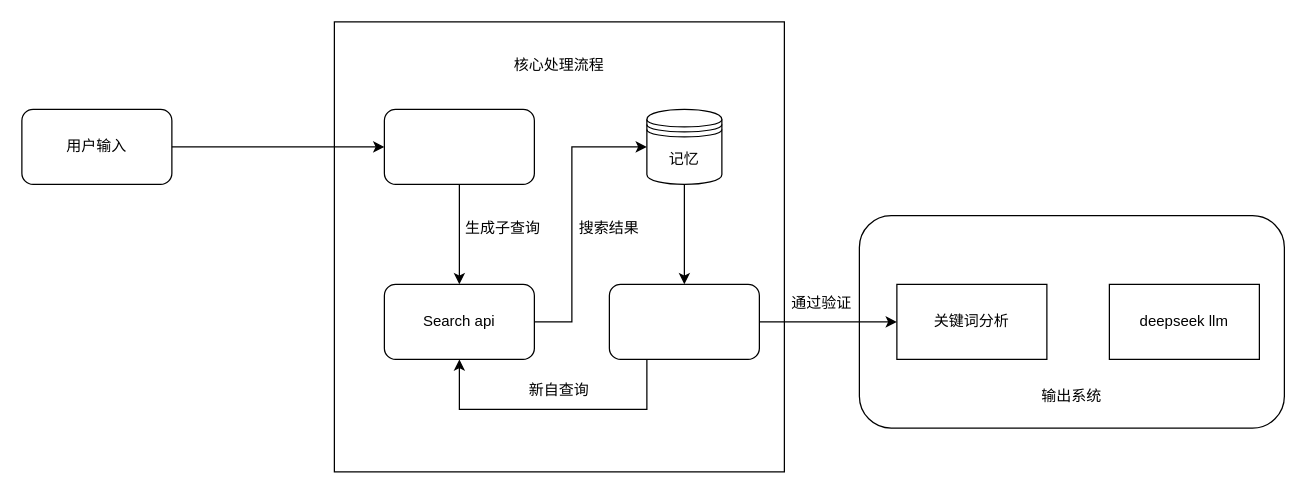
Image size: 1306x494. Some labels were removed from this diagram. Here are the shapes that lost their labels. From the top down, the centre of each, then its label:
At point 458,146: "llm规划器".
At point 683,321: "llm反思器".
